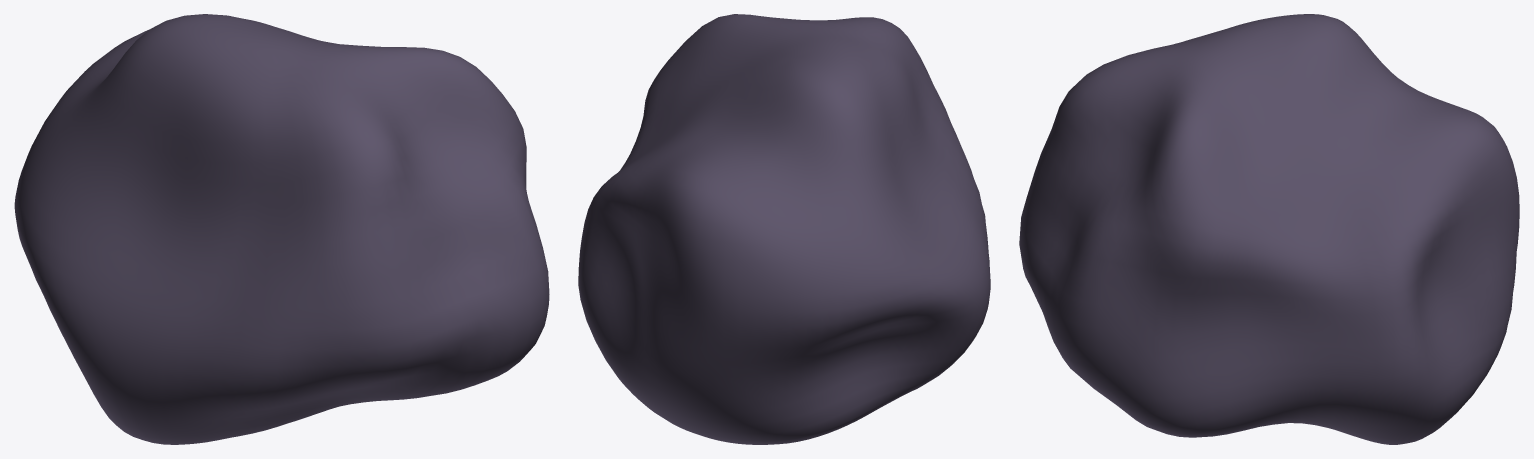
Rendered from FIXmeteor(1).glb.
The picture shows the model from 3 angles, left to right: view 1: azimuth 30°, elevation 25°; view 2: azimuth 150°, elevation 25°; view 3: azimuth 270°, elevation 25°; orthographic projection. The views are drawn at different scales.
Parts seen in each view (by area): view 1: Sphere; view 2: Sphere; view 3: Sphere.
Boxes of the visible parts, x1,y1,x2,y2 form: Sphere: [14, 14, 549, 444]; Sphere: [578, 14, 990, 444]; Sphere: [1019, 14, 1519, 444].
Size of the model in its own units: 1.84 by 1.74 by 2.11.
